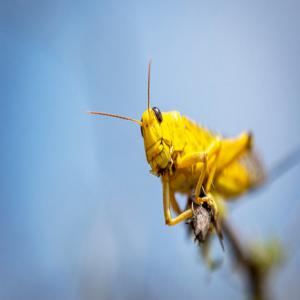locust: (139, 63, 265, 207)
